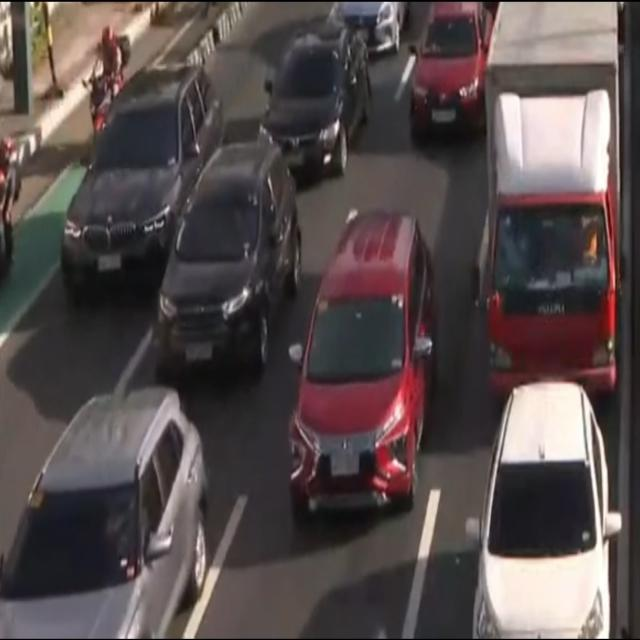Motorcycle: (82, 24, 128, 136)
SUV: (0, 385, 205, 640), (292, 212, 434, 499), (56, 67, 225, 296), (157, 139, 296, 369)
Sedan: (478, 380, 612, 640), (258, 25, 366, 184), (410, 1, 487, 141)
Truck: (478, 0, 618, 409)
